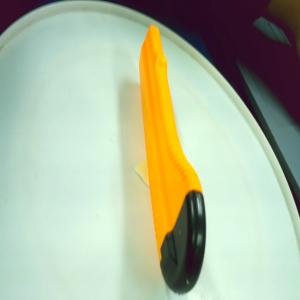estilete: (134, 24, 207, 294)
